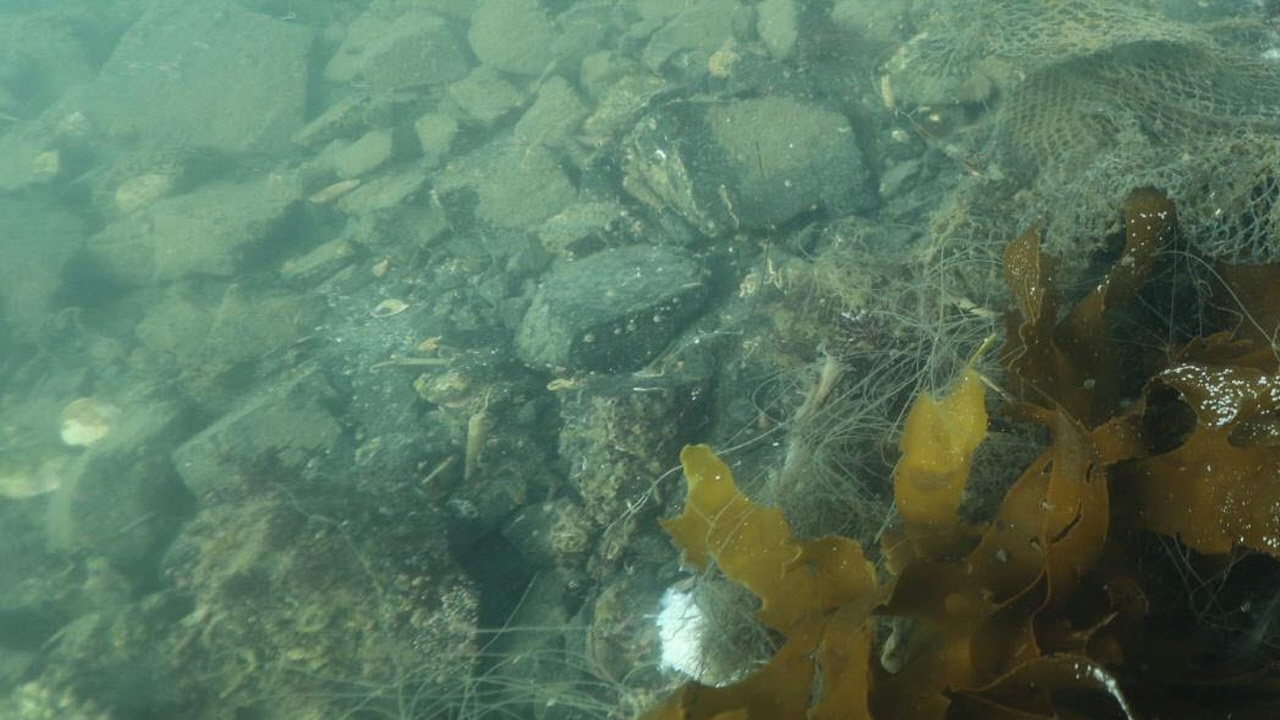fish net: (920, 0, 1280, 281)
